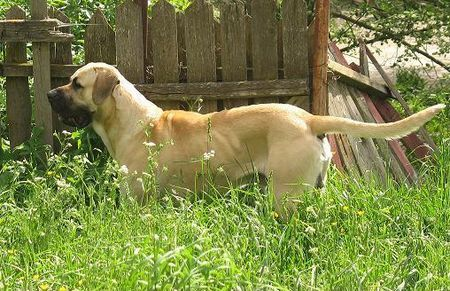tosa_inu: (45, 60, 446, 214)
